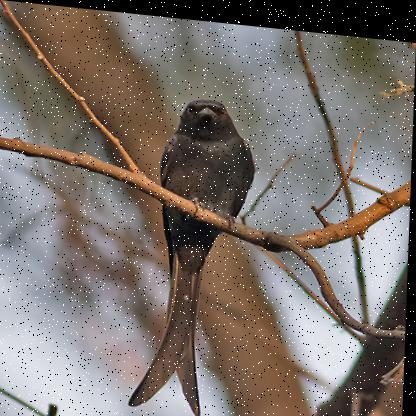Burung: (129, 88, 261, 413)
